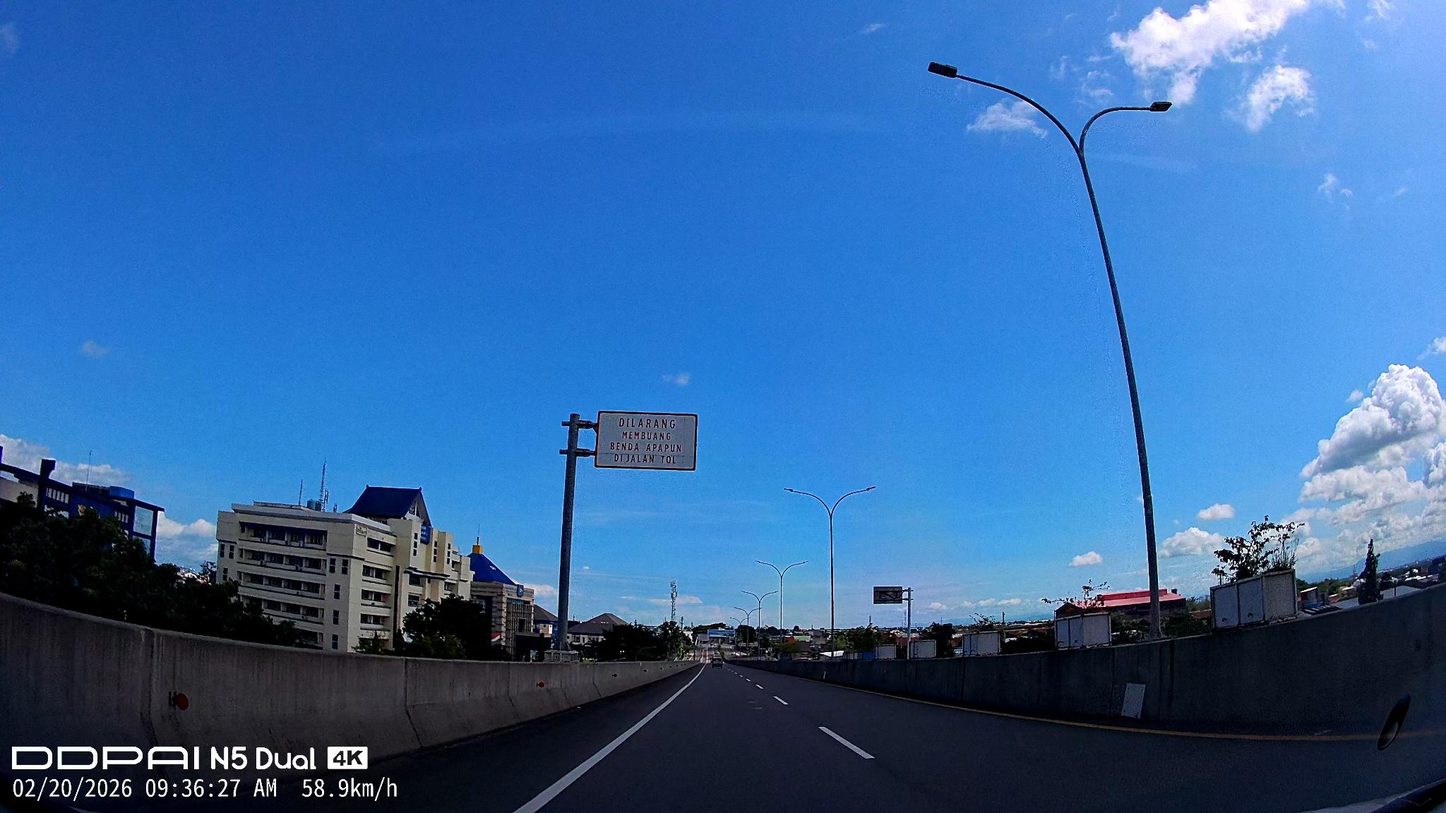rambu_teks: (594, 409, 699, 472)
